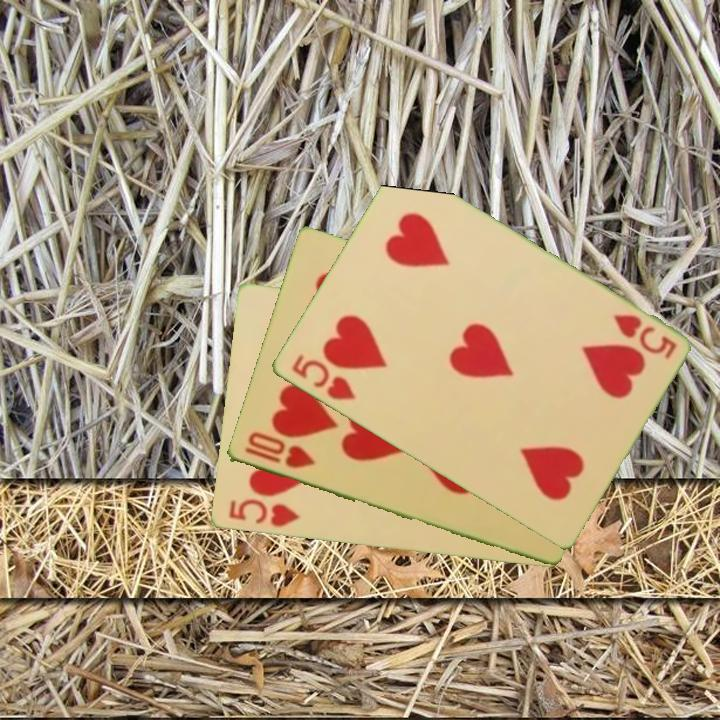10h: (240, 429, 317, 472)
5h: (287, 350, 359, 404), (608, 311, 679, 362), (224, 495, 302, 531)
